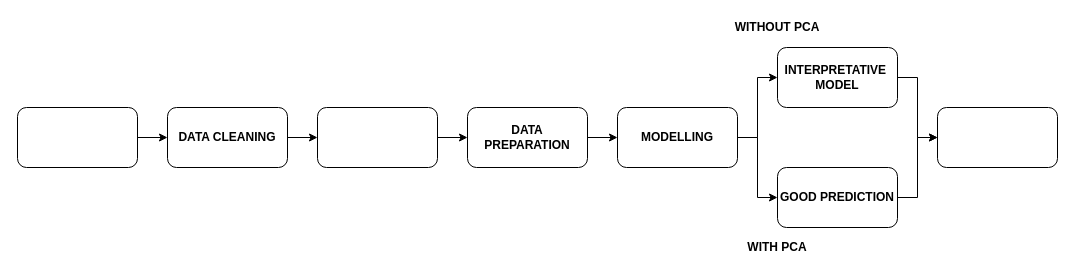
Some shapes in this 1075 by 274 pixel diagram are drawn without their labels. The centre of each missing label's shape, as x and y in pixels:
"CONCLUSION" goes at [997,137].
"DERIVE CHURN" goes at [377,137].
"FILTERING HVC" goes at [77,137].
